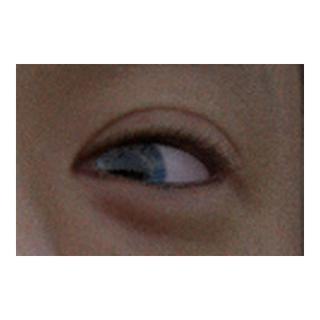pupil: (109, 157, 142, 189)
